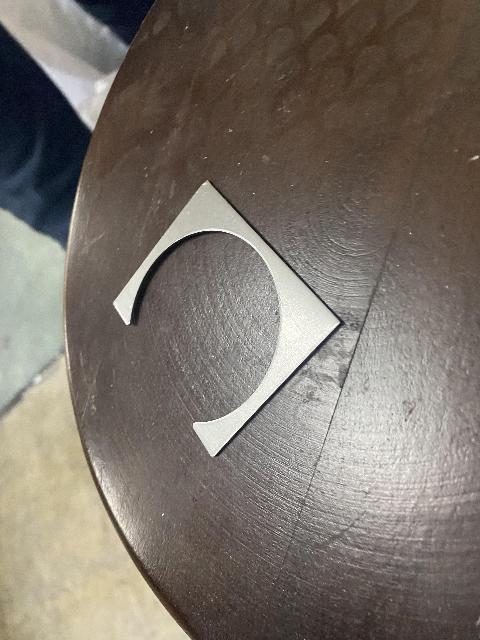Metal: (103, 175, 368, 462)
